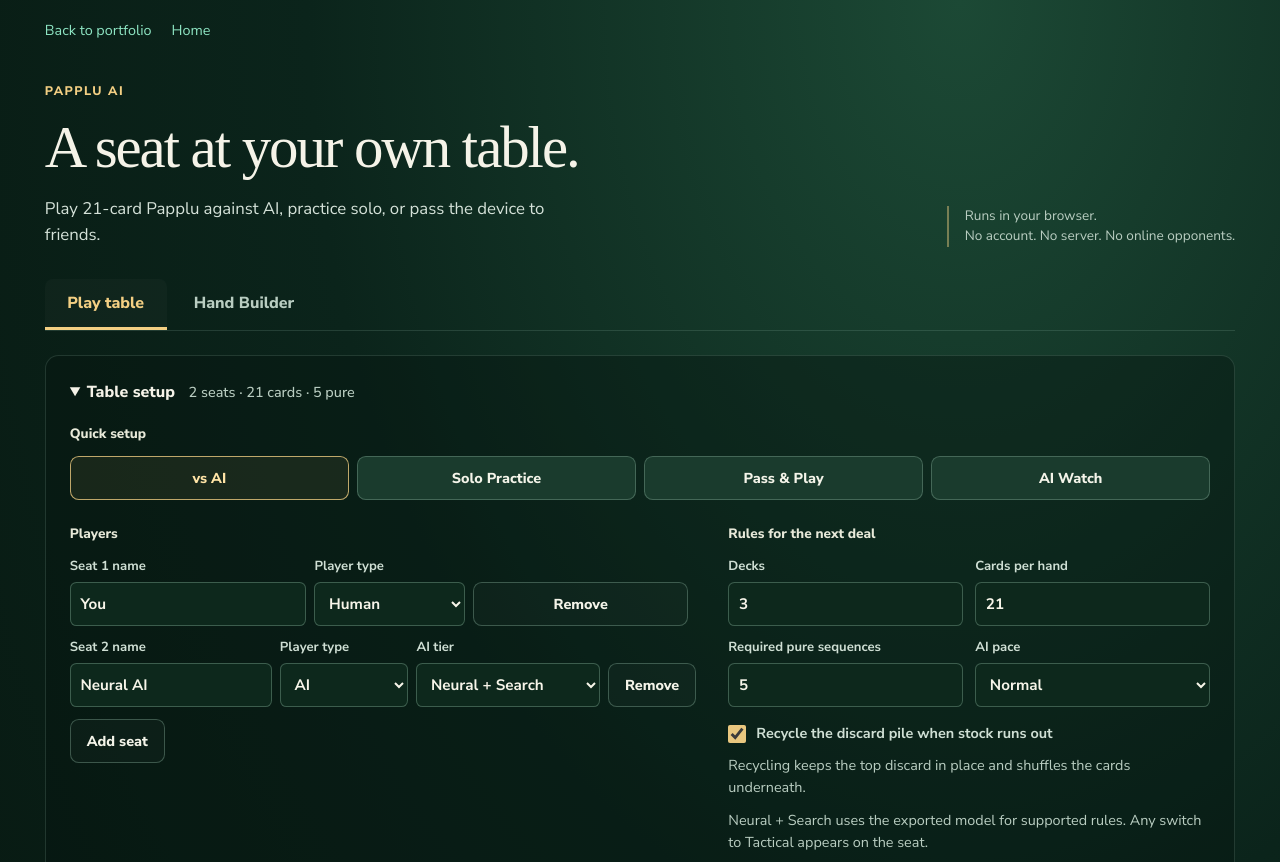
Scenario: setup changes leave the current hand alone until a new deal
Step 1. Click the button "Solo Practice" → (496, 478), box [357,456,636,500]
(page scrolled)
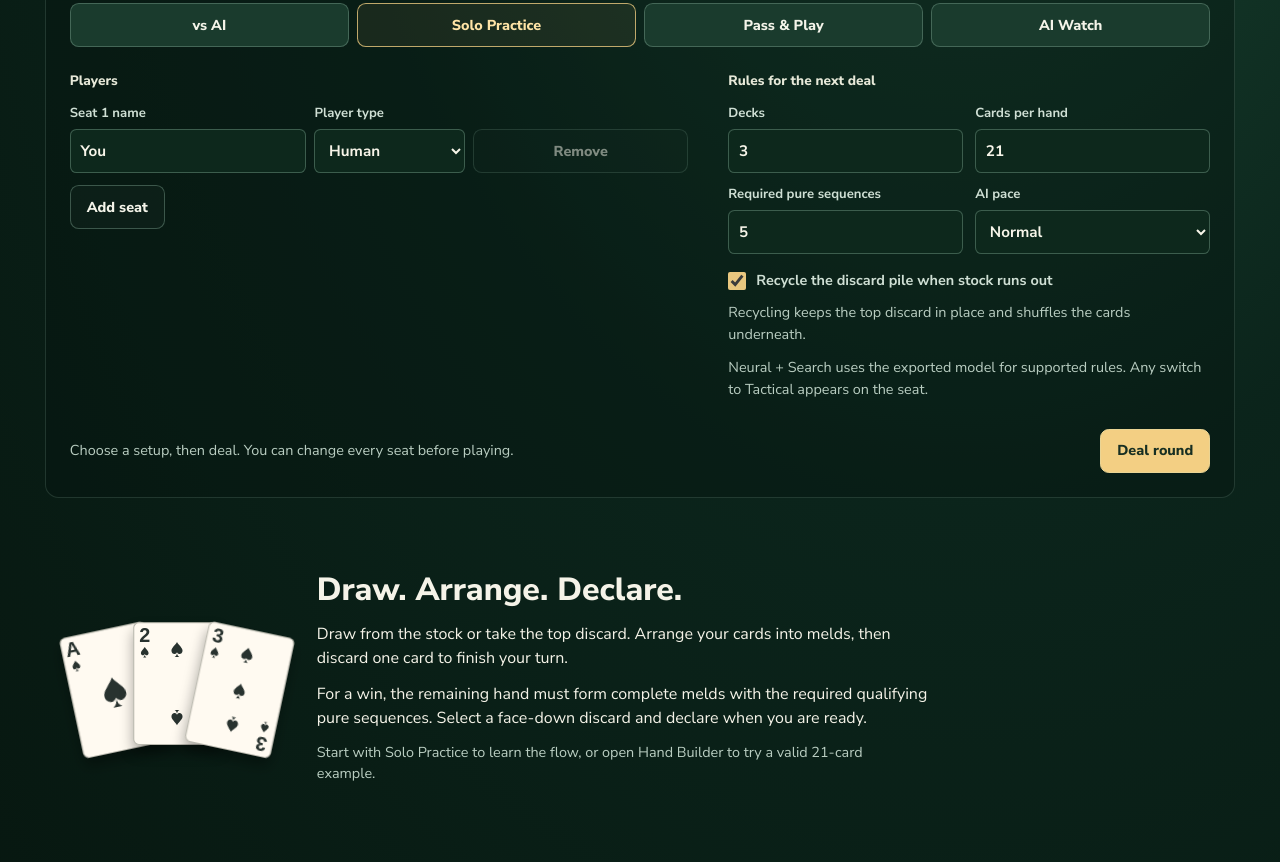
Step 2. Click the button "Deal round" → (1155, 451), box [1100,429,1210,473]
(page scrolled)
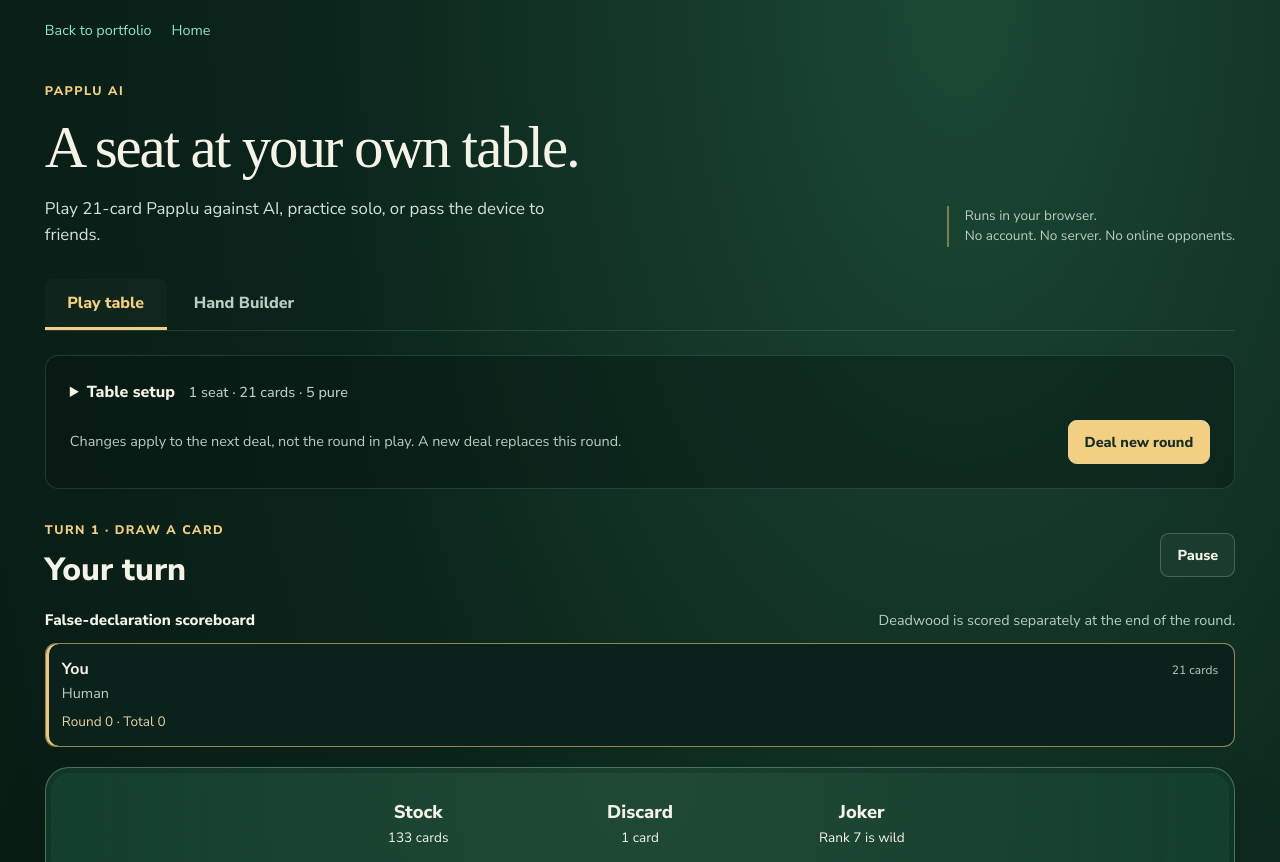
Step 3. Click the text "Table setup" → (131, 392), box [87,381,175,403]
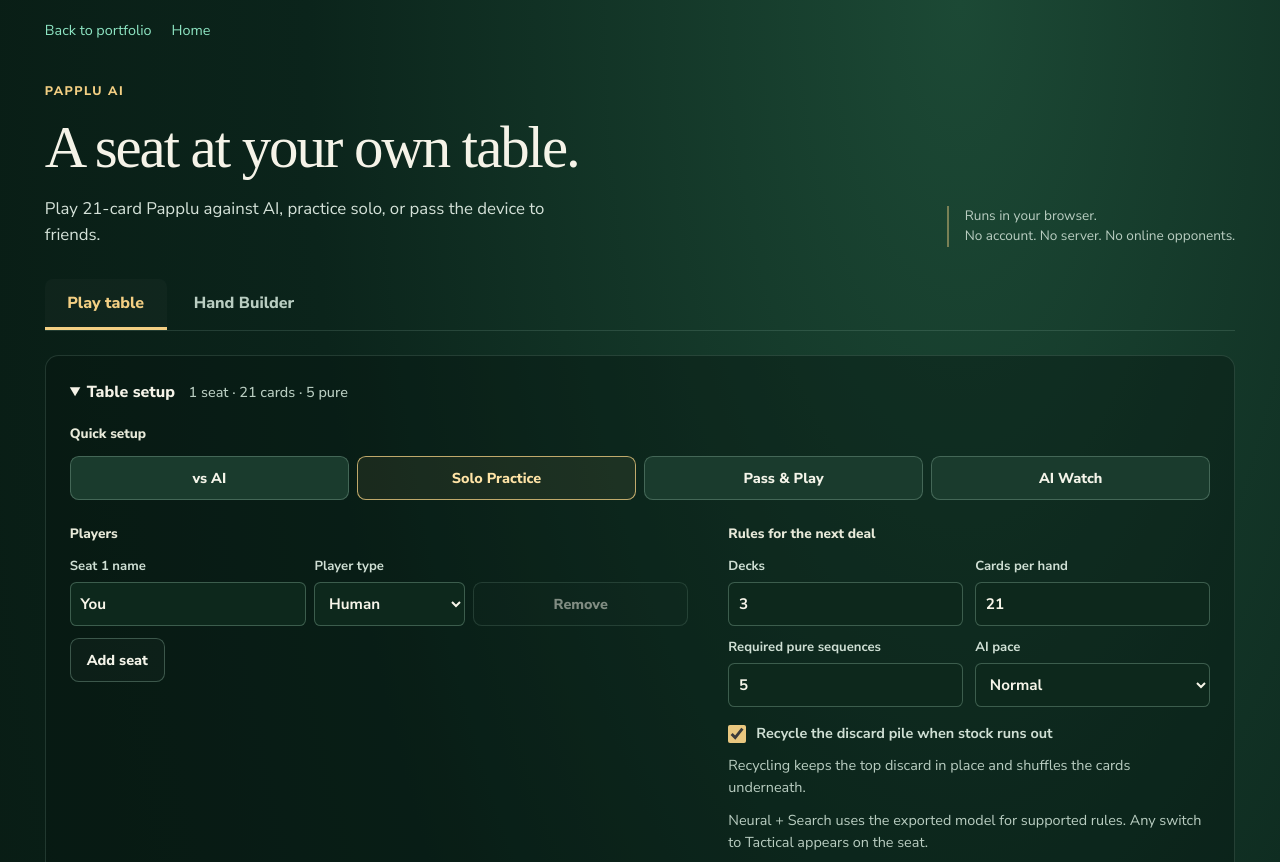
Step 4. Replace the text in the number field labelled "Cards per hand" with "3" → (1093, 604), box [975,582,1210,626]
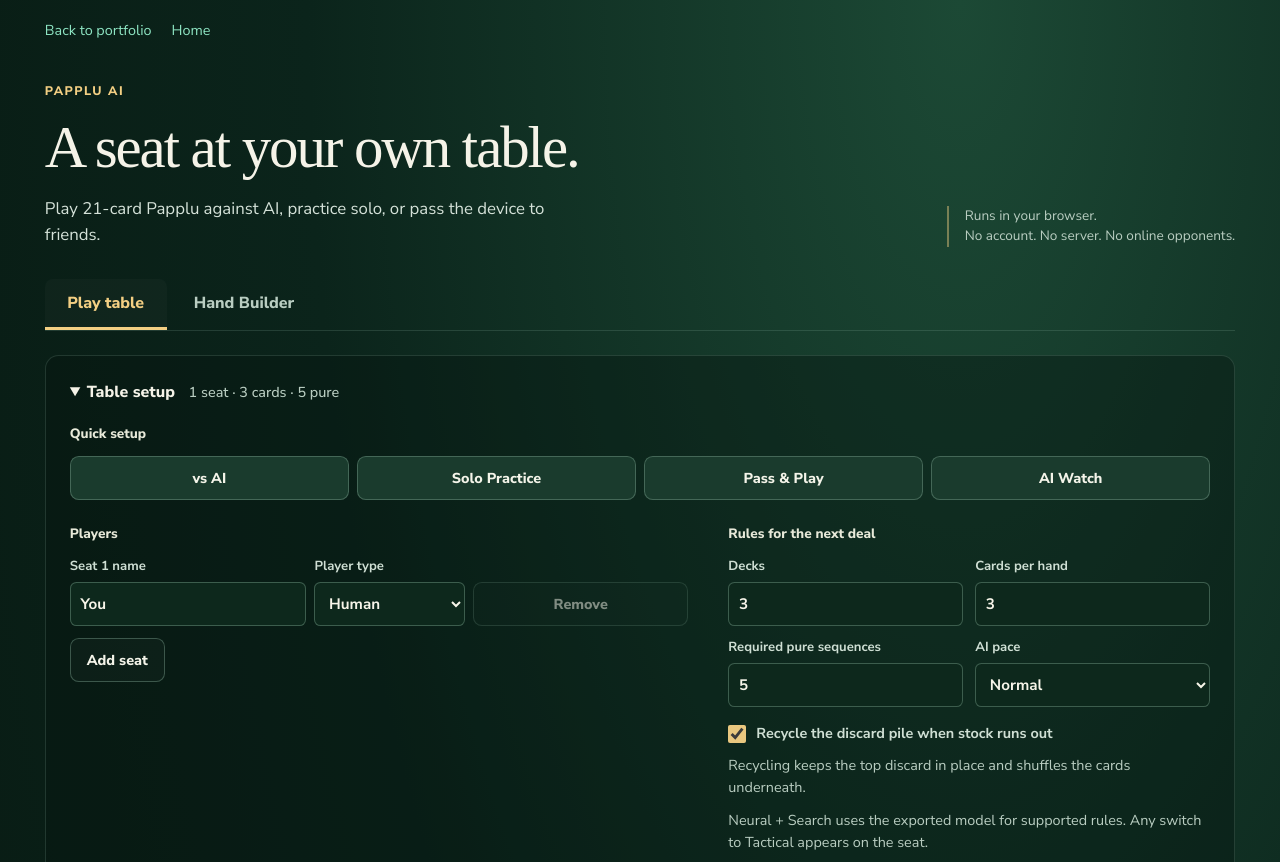
Step 5. Replace the text in the number field labelled "Required pure sequences" with "1" → (846, 685), box [728,663,963,707]
(page scrolled)
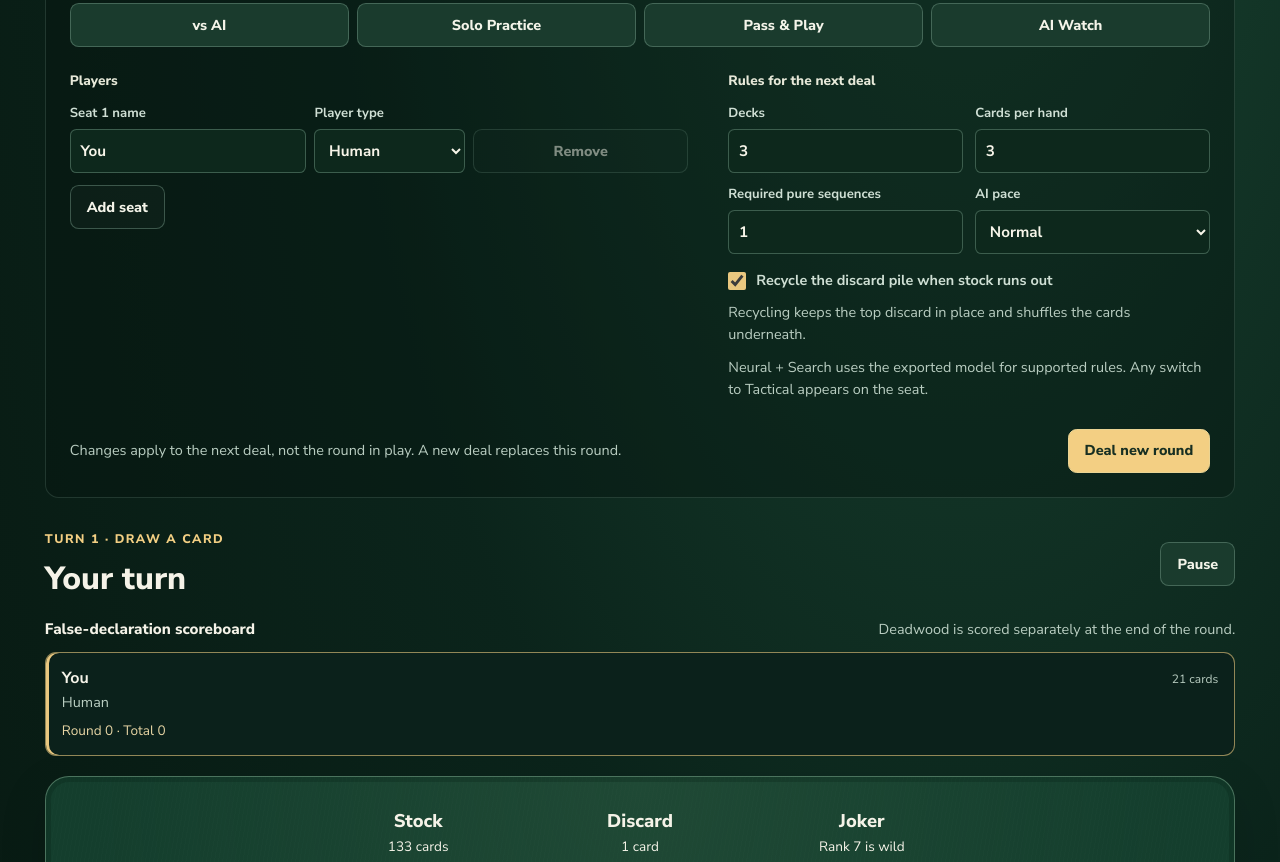
Expected: the text "Changes apply to the next deal" is shown, [70,440,621,460]
Step 6. Click the button "Deal new round" → (1139, 451), box [1068,429,1210,473]
(page scrolled)
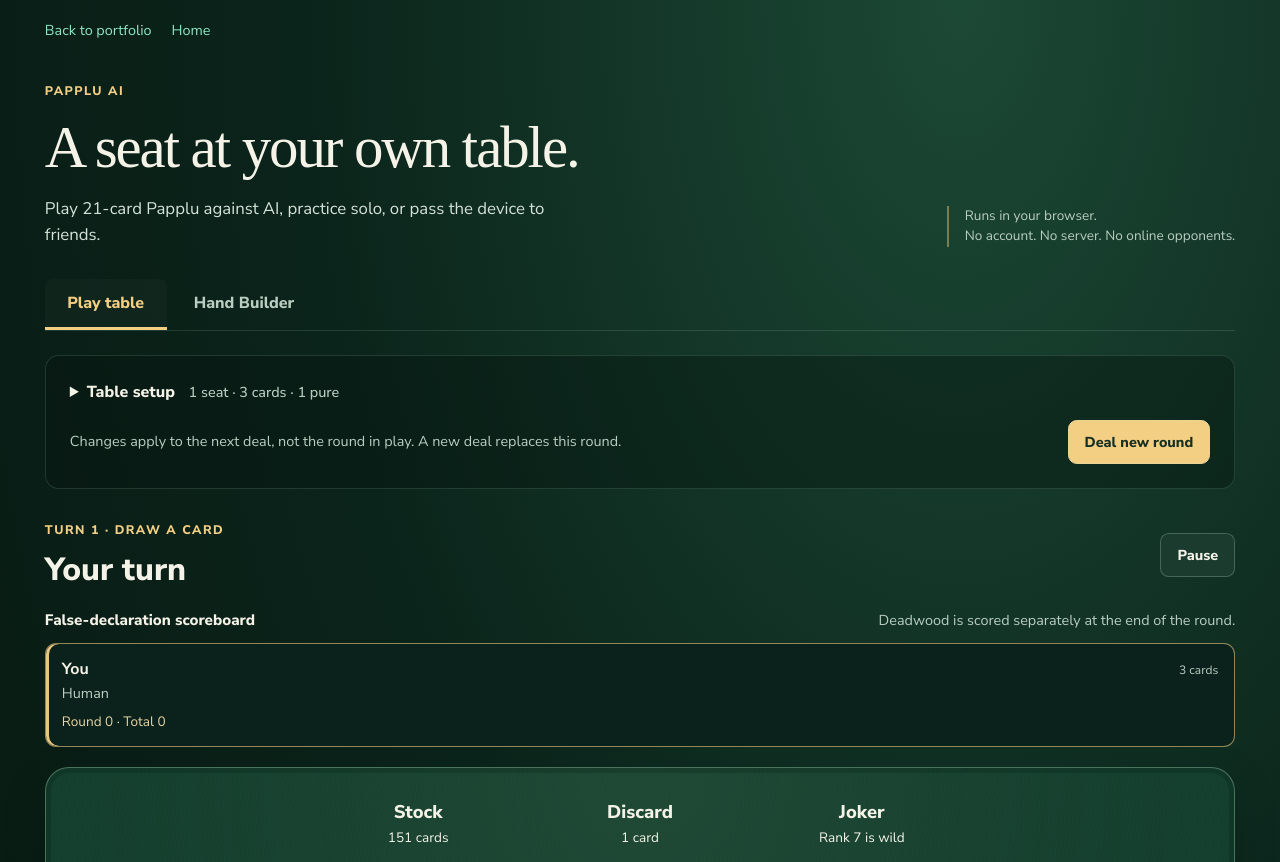
Expected: the text "151 cards" is shown, [388,828,448,851]
